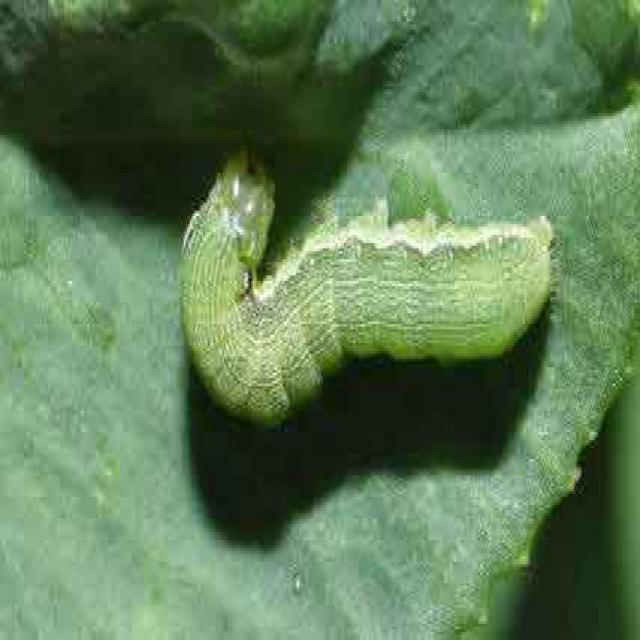BeetArmyWorm-Larva-: (164, 130, 572, 430)
